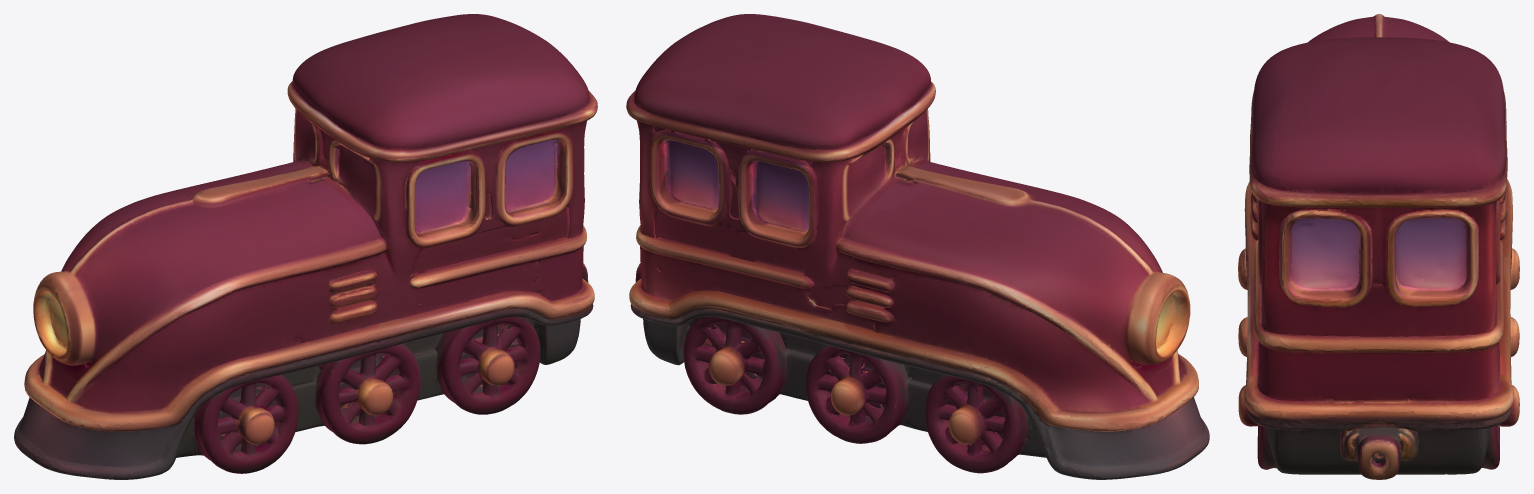
The picture shows the model from 3 angles, left to right: view 1: azimuth 30°, elevation 25°; view 2: azimuth 150°, elevation 25°; view 3: azimuth 270°, elevation 25°; orthographic projection. The views are drawn at different scales.
Parts seen in each view (by area): view 1: geometry_0; view 2: geometry_0; view 3: geometry_0.
Part boxes in pixels (x1,y1,x2,y2): geometry_0: [14, 14, 597, 479]; geometry_0: [626, 14, 1209, 479]; geometry_0: [1238, 14, 1519, 479].
Bounding box in the file's own units: 0.12 × 0.0693 × 0.0456.
1 material, 1 textured.
